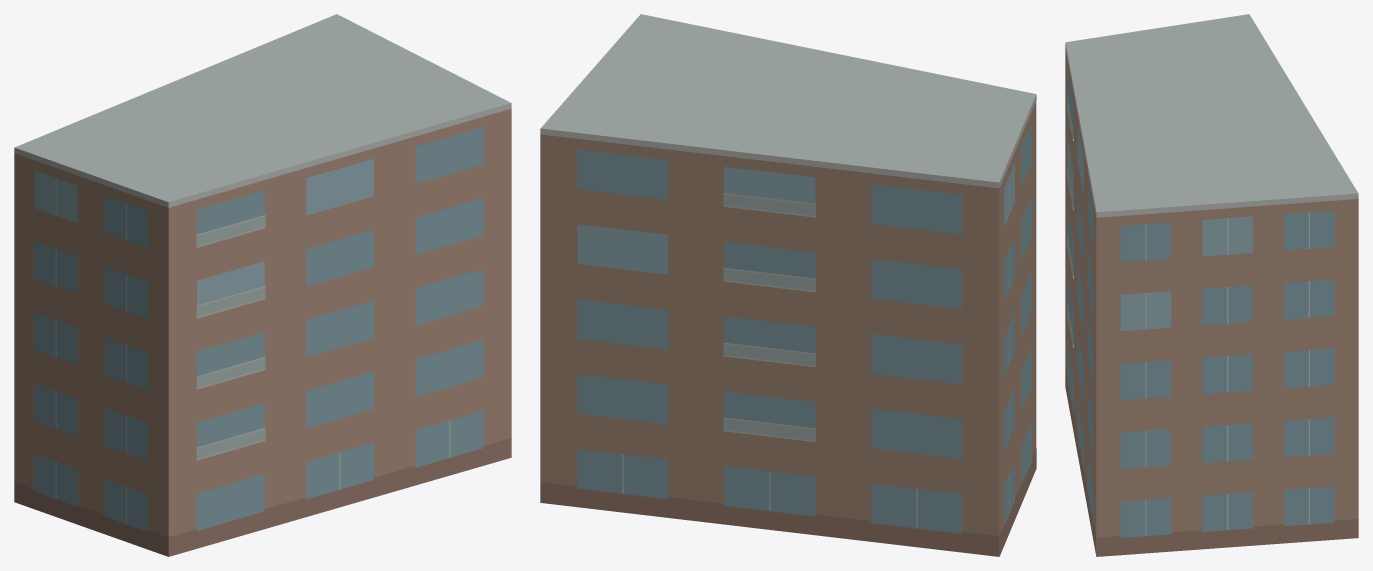
The model's file is survey-upis-32993925.glb.
The picture shows the model from 3 angles, left to right: view 1: azimuth 30°, elevation 25°; view 2: azimuth 150°, elevation 25°; view 3: azimuth 270°, elevation 25°; orthographic projection. The views are drawn at different scales.
Visible parts, largest first — view 1: survey-upis-32993925.tmp; view 2: survey-upis-32993925.tmp; view 3: survey-upis-32993925.tmp.
Part boxes in pixels (x1,y1,x2,y2): survey-upis-32993925.tmp: (14,14,511,556); survey-upis-32993925.tmp: (540,14,1036,556); survey-upis-32993925.tmp: (1065,14,1358,556).
Size of the model in its own units: 19.15 by 15.5 by 11.96.
